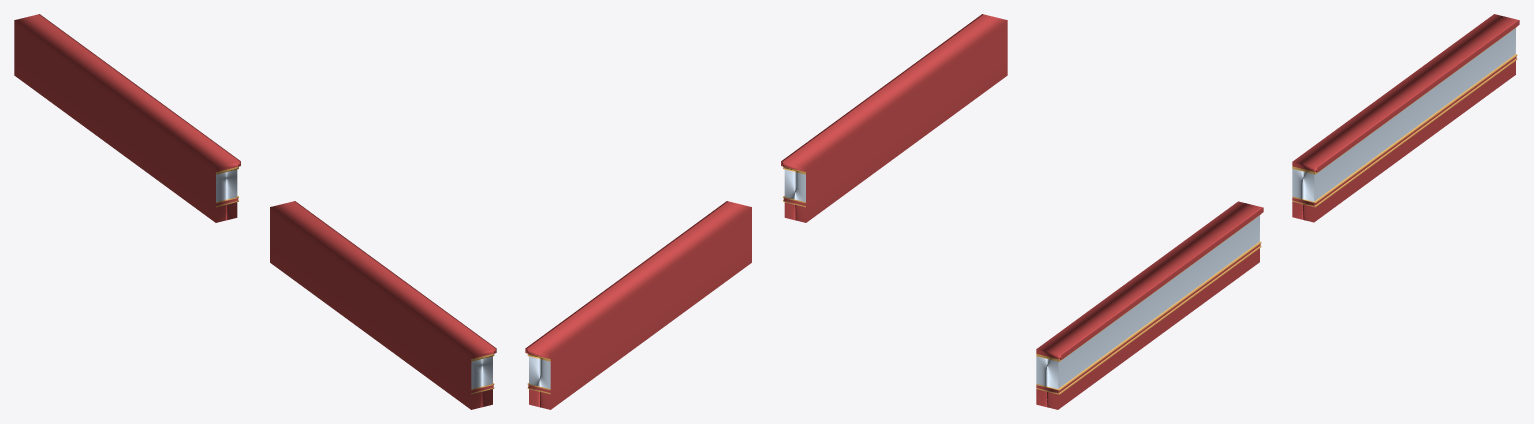
File: outside walls.fbx
The picture shows the model from 3 angles, left to right: view 1: azimuth 30°, elevation 25°; view 2: azimuth 150°, elevation 25°; view 3: azimuth 330°, elevation 25°; orthographic projection.
Visible parts, largest first — view 1: Cube, Cube.001; view 2: Cube.001, Cube; view 3: Cube, Cube.001.
Boxes of the visible parts, left/top/right/bottom form: Cube: left=14, top=14, right=240, bottom=222; Cube.001: left=270, top=201, right=496, bottom=409; Cube.001: left=781, top=14, right=1007, bottom=222; Cube: left=525, top=201, right=751, bottom=409; Cube: left=1292, top=14, right=1519, bottom=222; Cube.001: left=1036, top=201, right=1263, bottom=409.
Size of the model in its own units: 1220 by 2560 by 38223.
